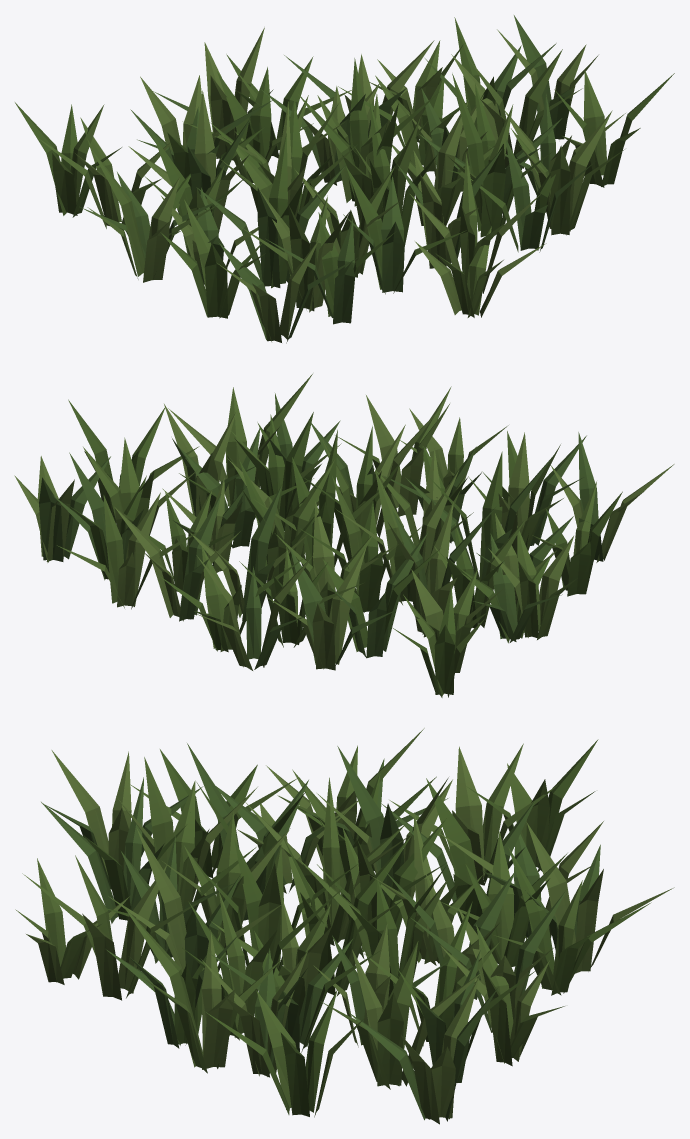
The model's file is SM_GrassDenseShort.fbx.
The picture shows the model from 3 angles, top to bottom: view 1: azimuth 30°, elevation 25°; view 2: azimuth 150°, elevation 25°; view 3: azimuth 270°, elevation 25°; orthographic projection. The views are drawn at different scales.
Parts seen in each view (by area): view 1: SM_GrassDenseShort; view 2: SM_GrassDenseShort; view 3: SM_GrassDenseShort.
Boxes of the visible parts, <box> form: SM_GrassDenseShort: <box>15,15,674,343</box>; SM_GrassDenseShort: <box>14,374,674,697</box>; SM_GrassDenseShort: <box>15,728,674,1124</box>.
Size of the model in its own units: 0.7721 by 0.6879 by 0.1823.
1 material, 1 textured.
